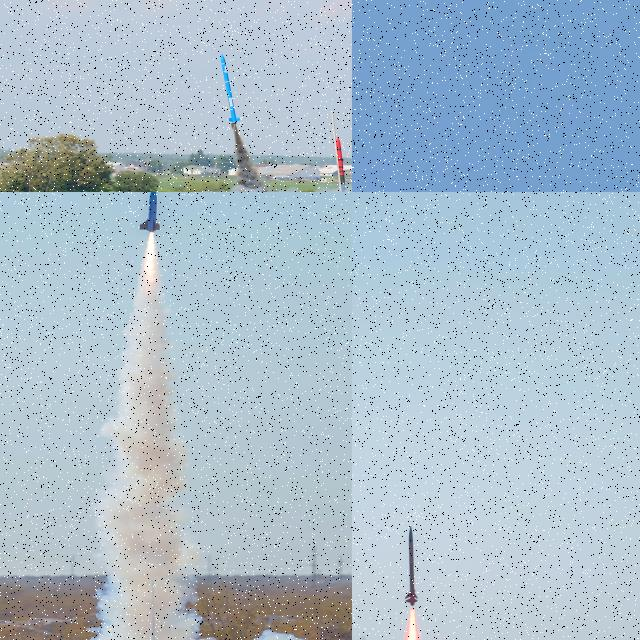Rocket: (220, 53, 243, 124), (406, 524, 418, 606), (140, 192, 160, 233), (335, 136, 346, 192)
